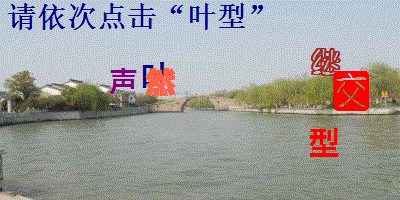result: (186, 1, 249, 30)
text: (332, 68, 370, 113), (308, 127, 348, 156), (308, 45, 344, 77), (142, 60, 175, 89), (145, 67, 176, 97), (108, 67, 138, 93)
